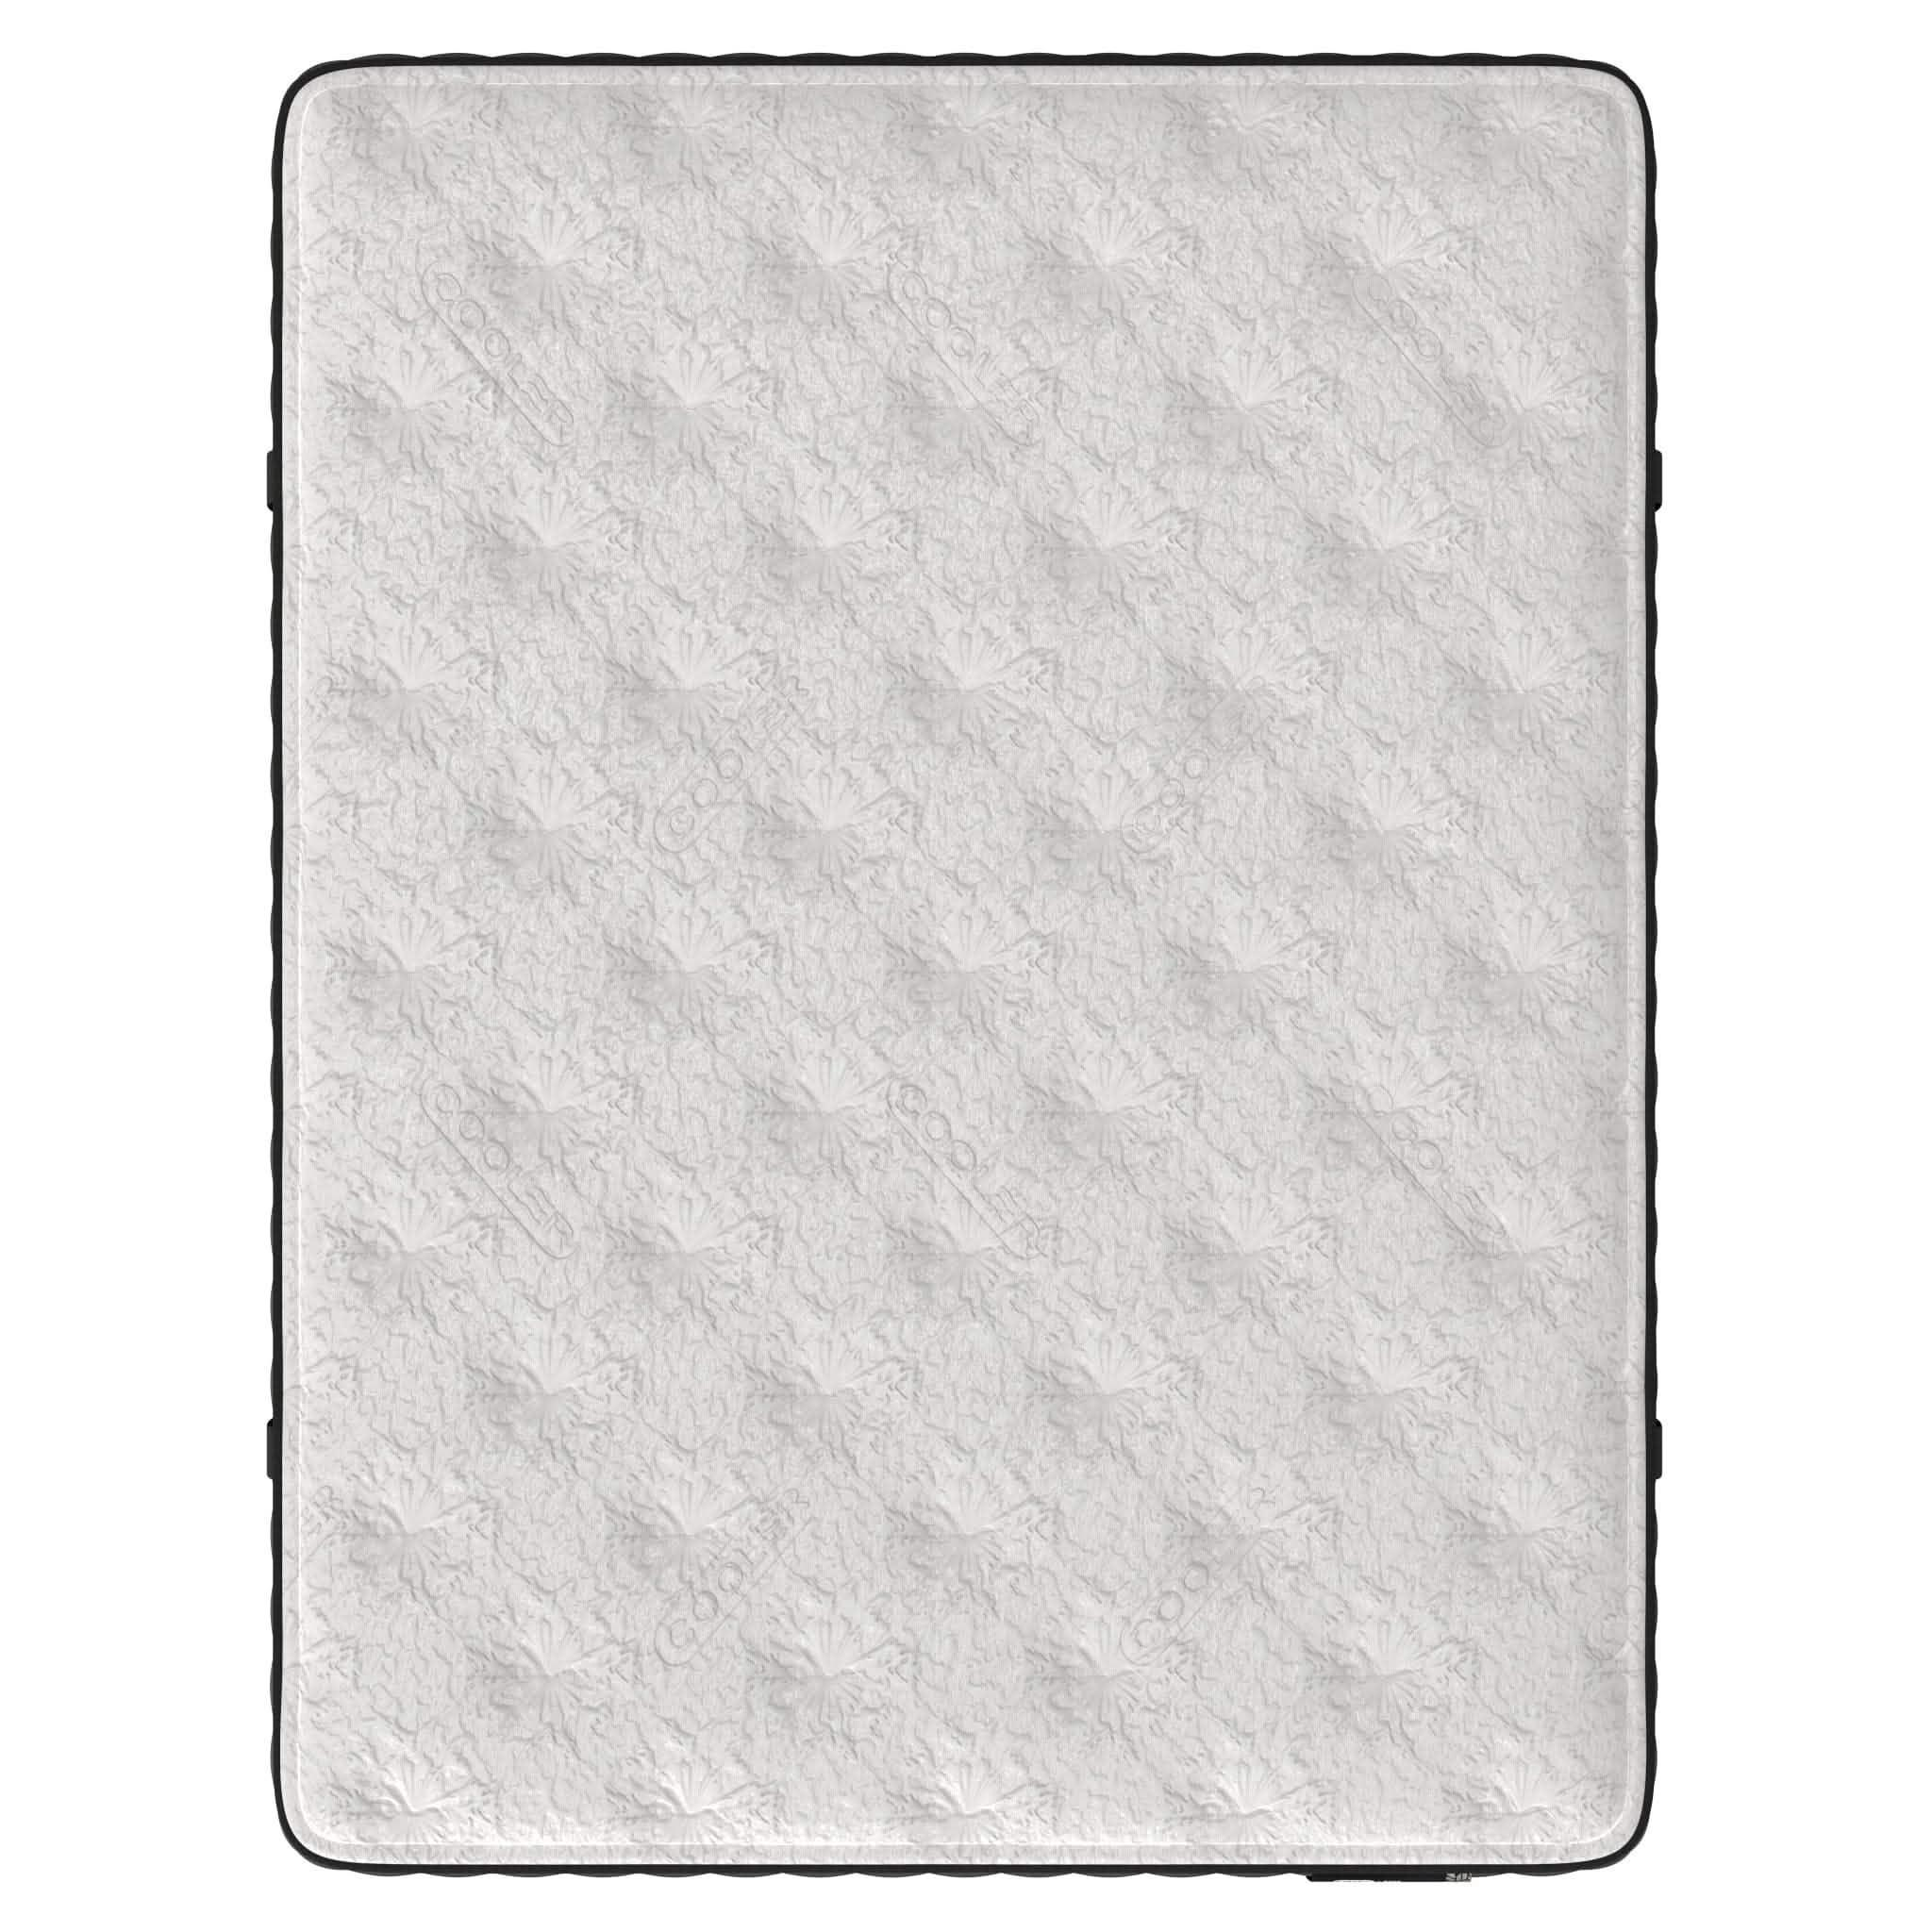Bed-Mattress: (258, 37, 1670, 1884)
